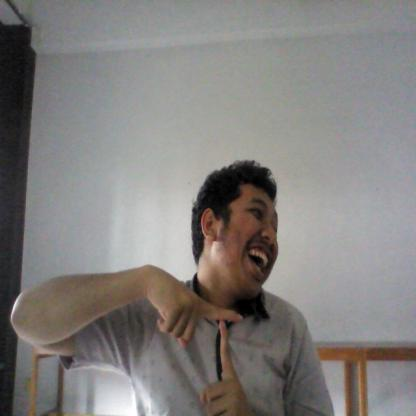T: (146, 264, 248, 416)
